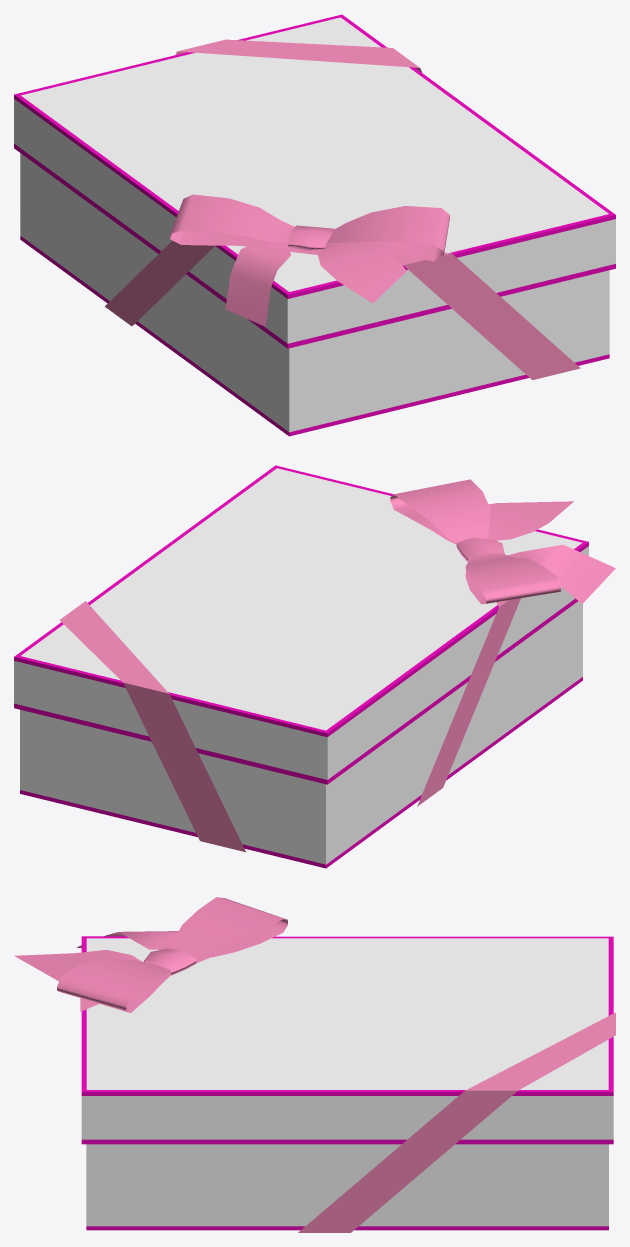
3 renders of one model, top to bottom at view 1: azimuth 30°, elevation 25°; view 2: azimuth 150°, elevation 25°; view 3: azimuth 270°, elevation 25°, orthographic. The views are drawn at different scales.
Visible parts, largest first — view 1: gift02; view 2: gift02; view 3: gift02.
Boxes of the visible parts, x1=… form: gift02: x1=14, y1=14, x2=615, y2=436; gift02: x1=14, y1=465, x2=615, y2=868; gift02: x1=14, y1=897, x2=615, y2=1232.
Bounding box in the file's own units: 14.44 × 6.28 × 20.74.
